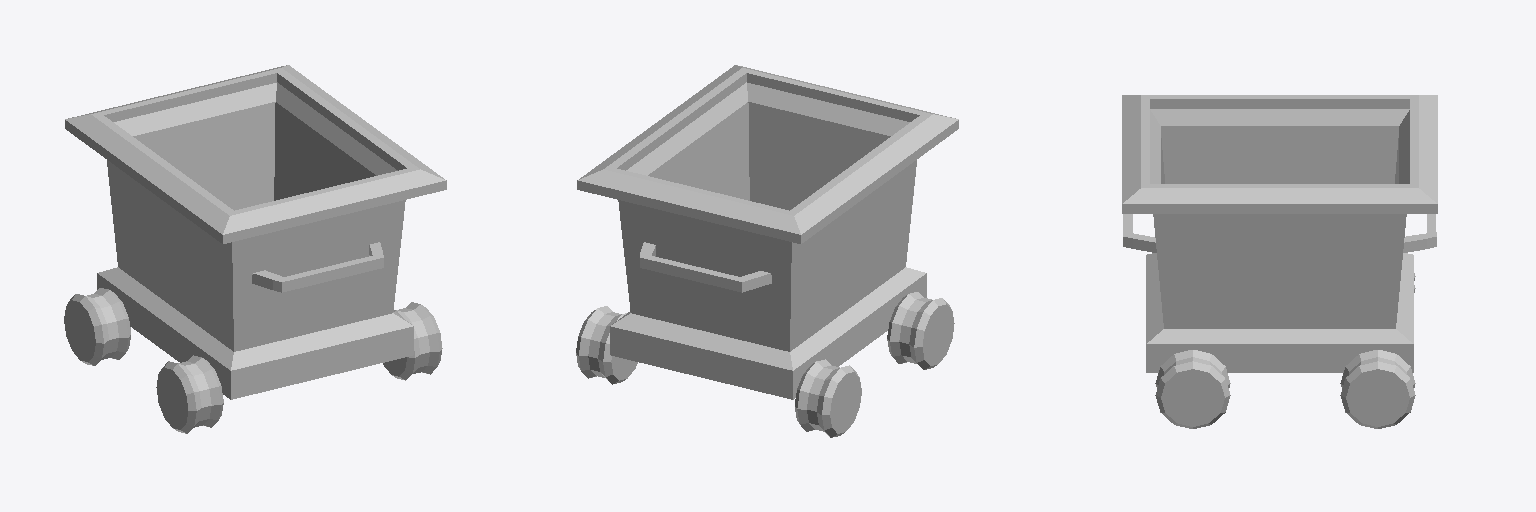
File: MiningCart.obj
3 renders of one model, left to right at view 1: azimuth 30°, elevation 25°; view 2: azimuth 150°, elevation 25°; view 3: azimuth 270°, elevation 25°, orthographic.
Bounding box in the file's own units: 7.13 × 6.12 × 7.68.